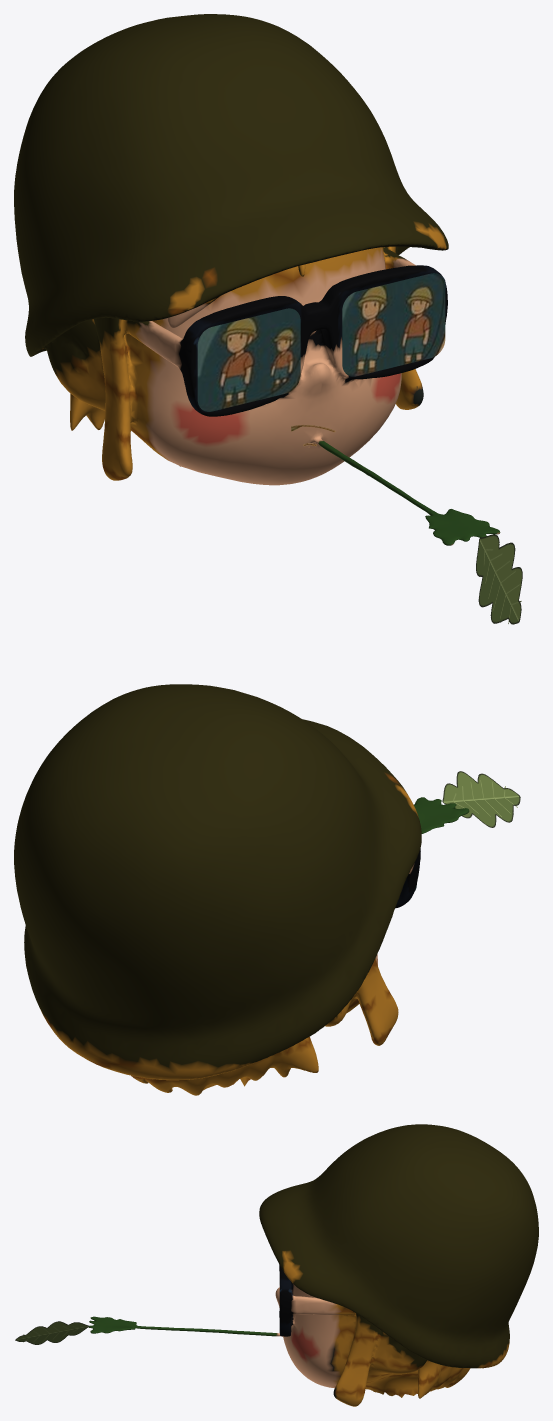
The model's file is SoldierHead.fbx.
3 renders of one model, top to bottom at view 1: azimuth 30°, elevation 25°; view 2: azimuth 150°, elevation 25°; view 3: azimuth 270°, elevation 25°, orthographic. The views are drawn at different scales.
Parts seen in each view (by area): view 1: mesh_node, LensL, LensR, Leaf; view 2: mesh_node, Leaf; view 3: mesh_node, Leaf.
Boxes of the visible parts, x1,y1,x2,y2 form: mesh_node: (14, 14, 500, 545); LensL: (342, 273, 445, 376); LensR: (197, 308, 300, 411); Leaf: (476, 534, 522, 624); mesh_node: (14, 684, 469, 1095); Leaf: (442, 771, 520, 827); mesh_node: (88, 1124, 538, 1406); Leaf: (15, 1321, 89, 1344).
Bounding box in the file's own units: 0.6355 × 0.6976 × 1.36.
Materials: 5 (4 with a texture image).
